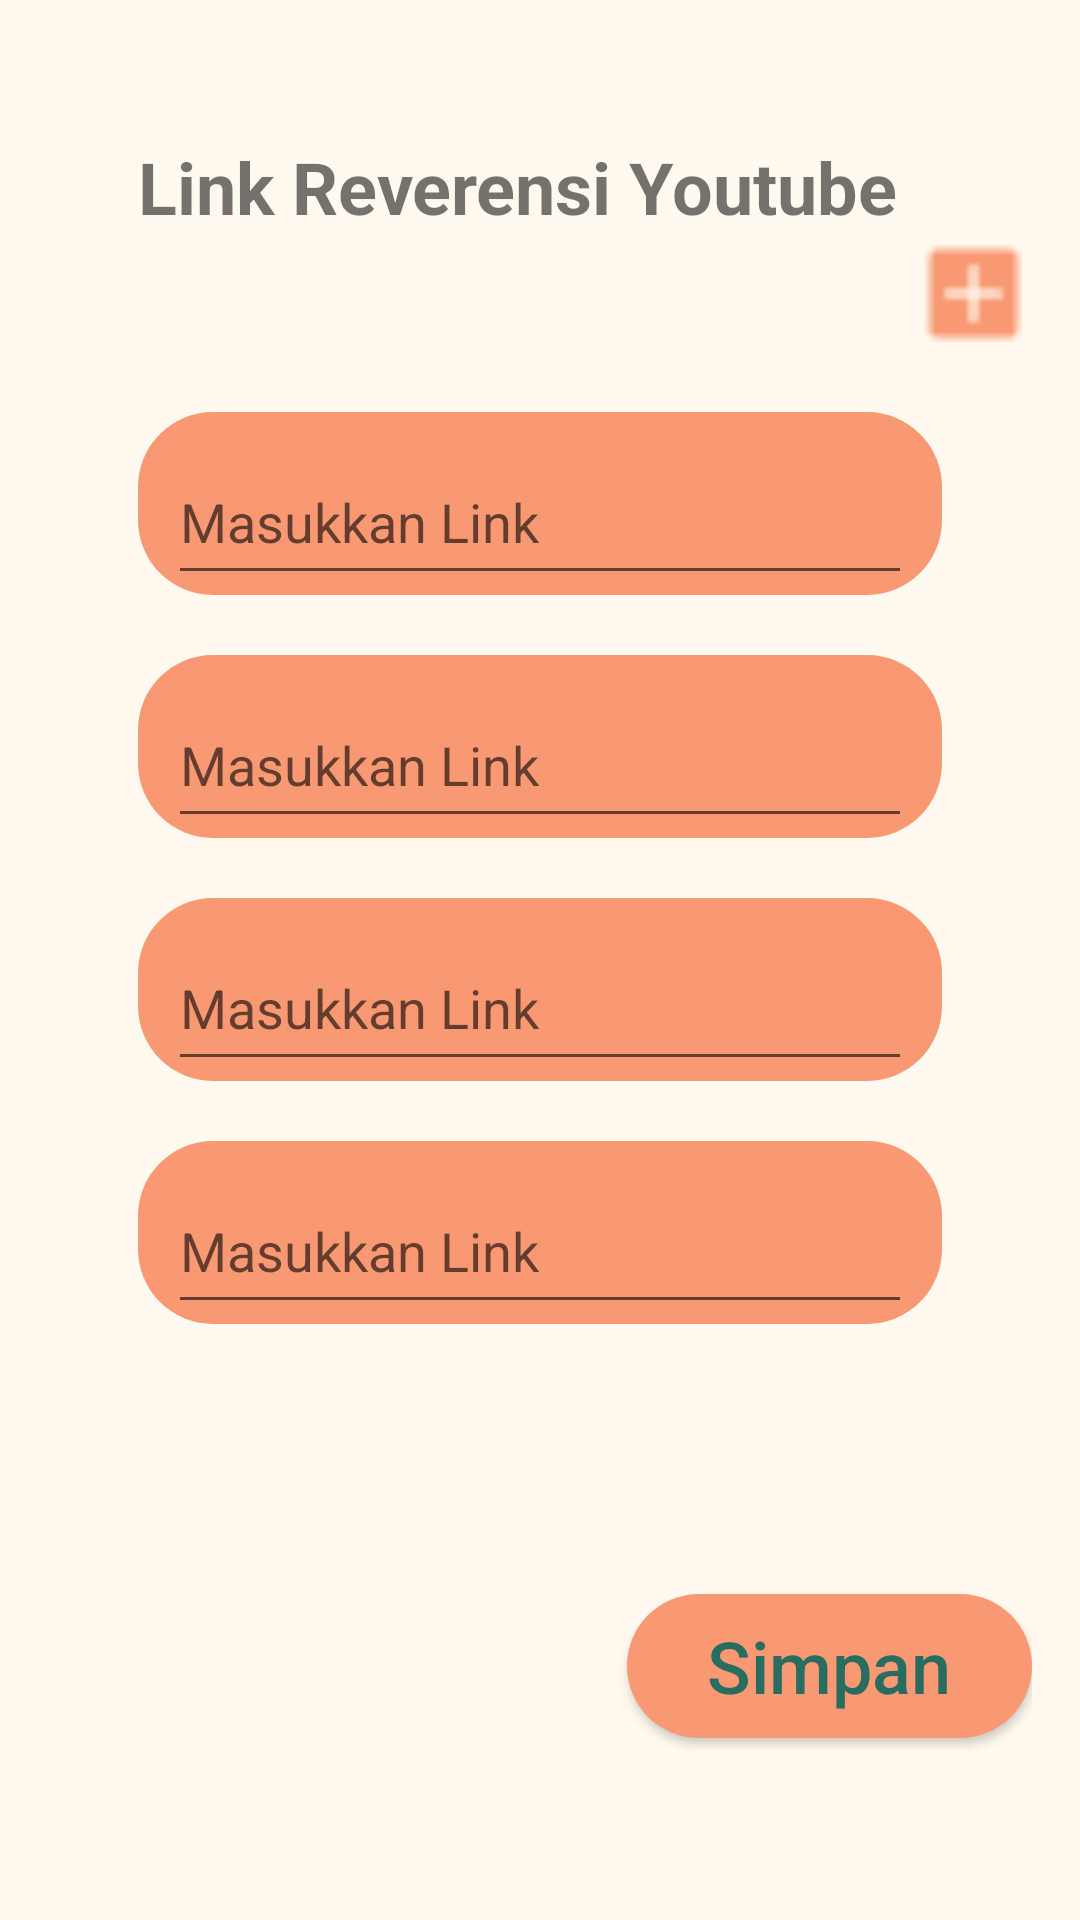

Named icons in this screenshot (1080×1920) and their bounding boxes, (x1, y1, x2, y2):
plus: (926, 246, 1021, 341)
